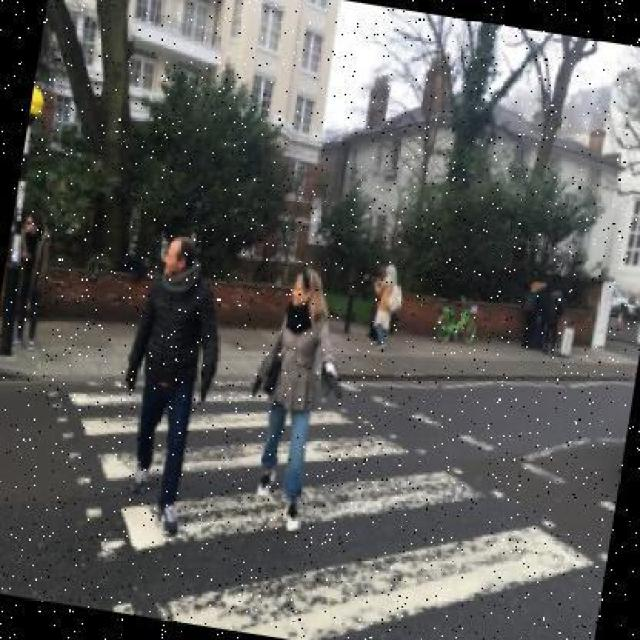Person: (106, 230, 234, 527), (234, 259, 355, 532), (3, 210, 59, 356), (365, 260, 403, 351)
